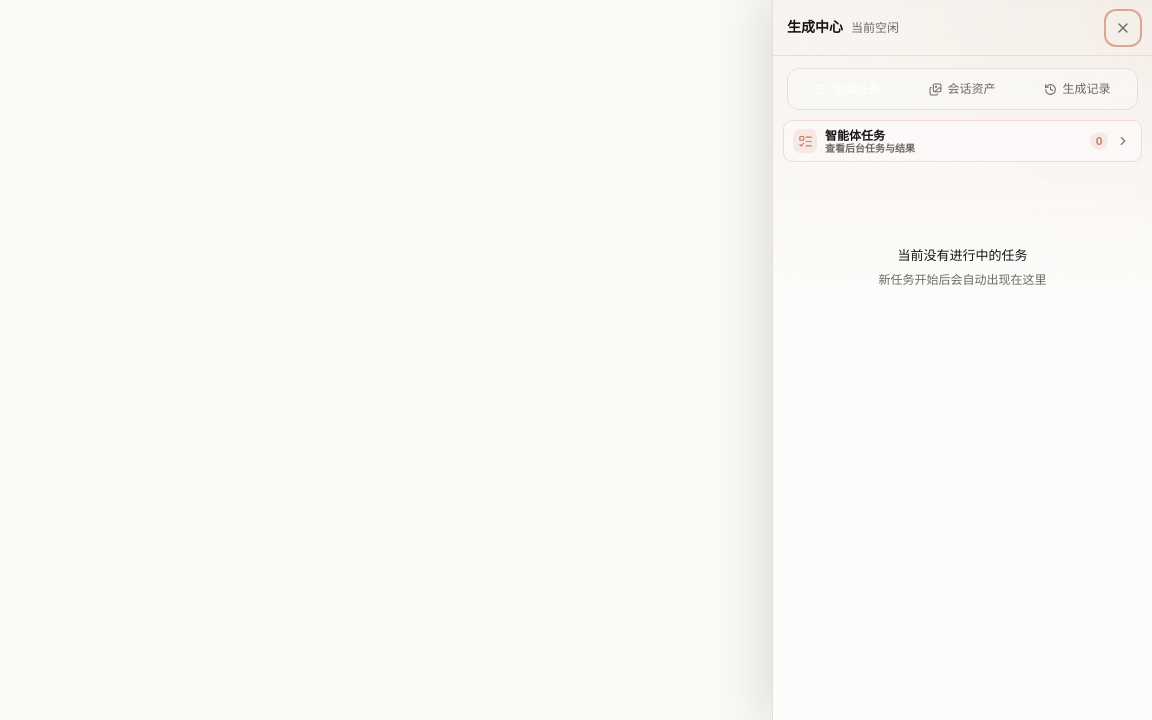
GenerationCenterPanel › switches back to generation tasks without leaving the assets filter behind
What coordinates should you click on to do the following:
click the tab "会话资产"
I would click on:
 (962, 89)
Its box is [907, 73, 1018, 105].
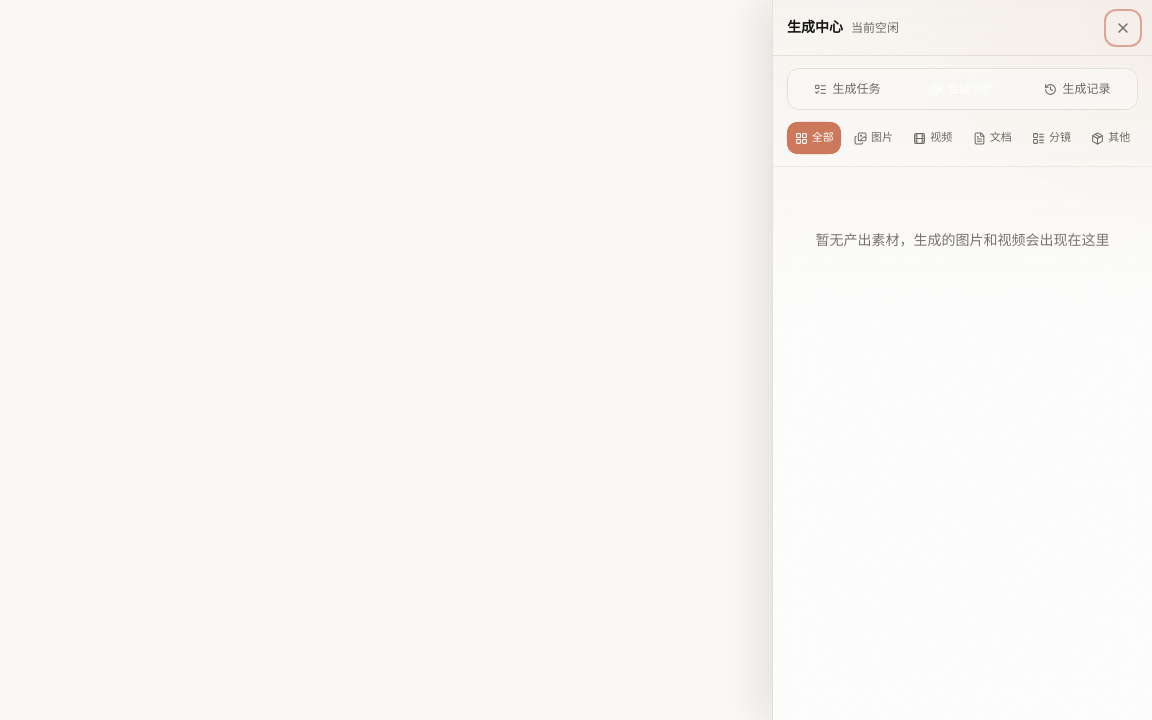
Check: the element named "会话资产筛选" is shown, box [787, 122, 1138, 154]
What coordinates should you click on to do the following:
click the tab "生成任务"
I would click on:
 (848, 89)
Its box is [792, 73, 903, 105].
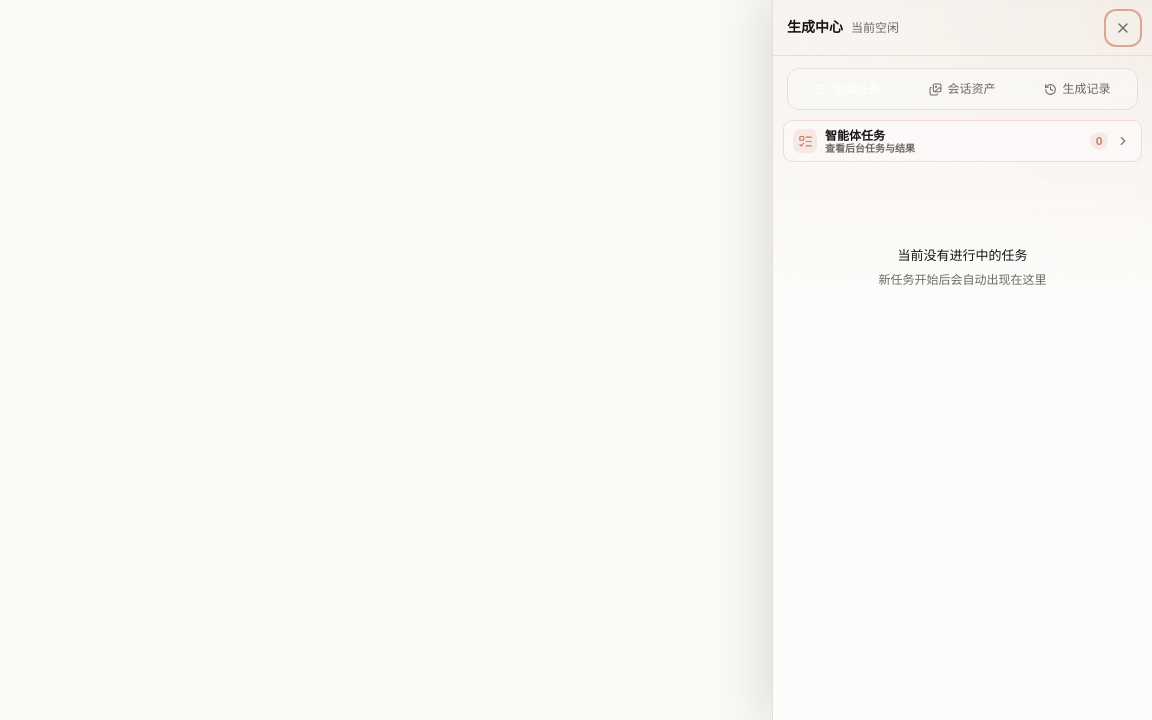
Check: the element "会话资产筛选" is gone
Check: the button "智能体任务 查看后台任务与结果 0" is shown, box [783, 120, 1142, 162]
